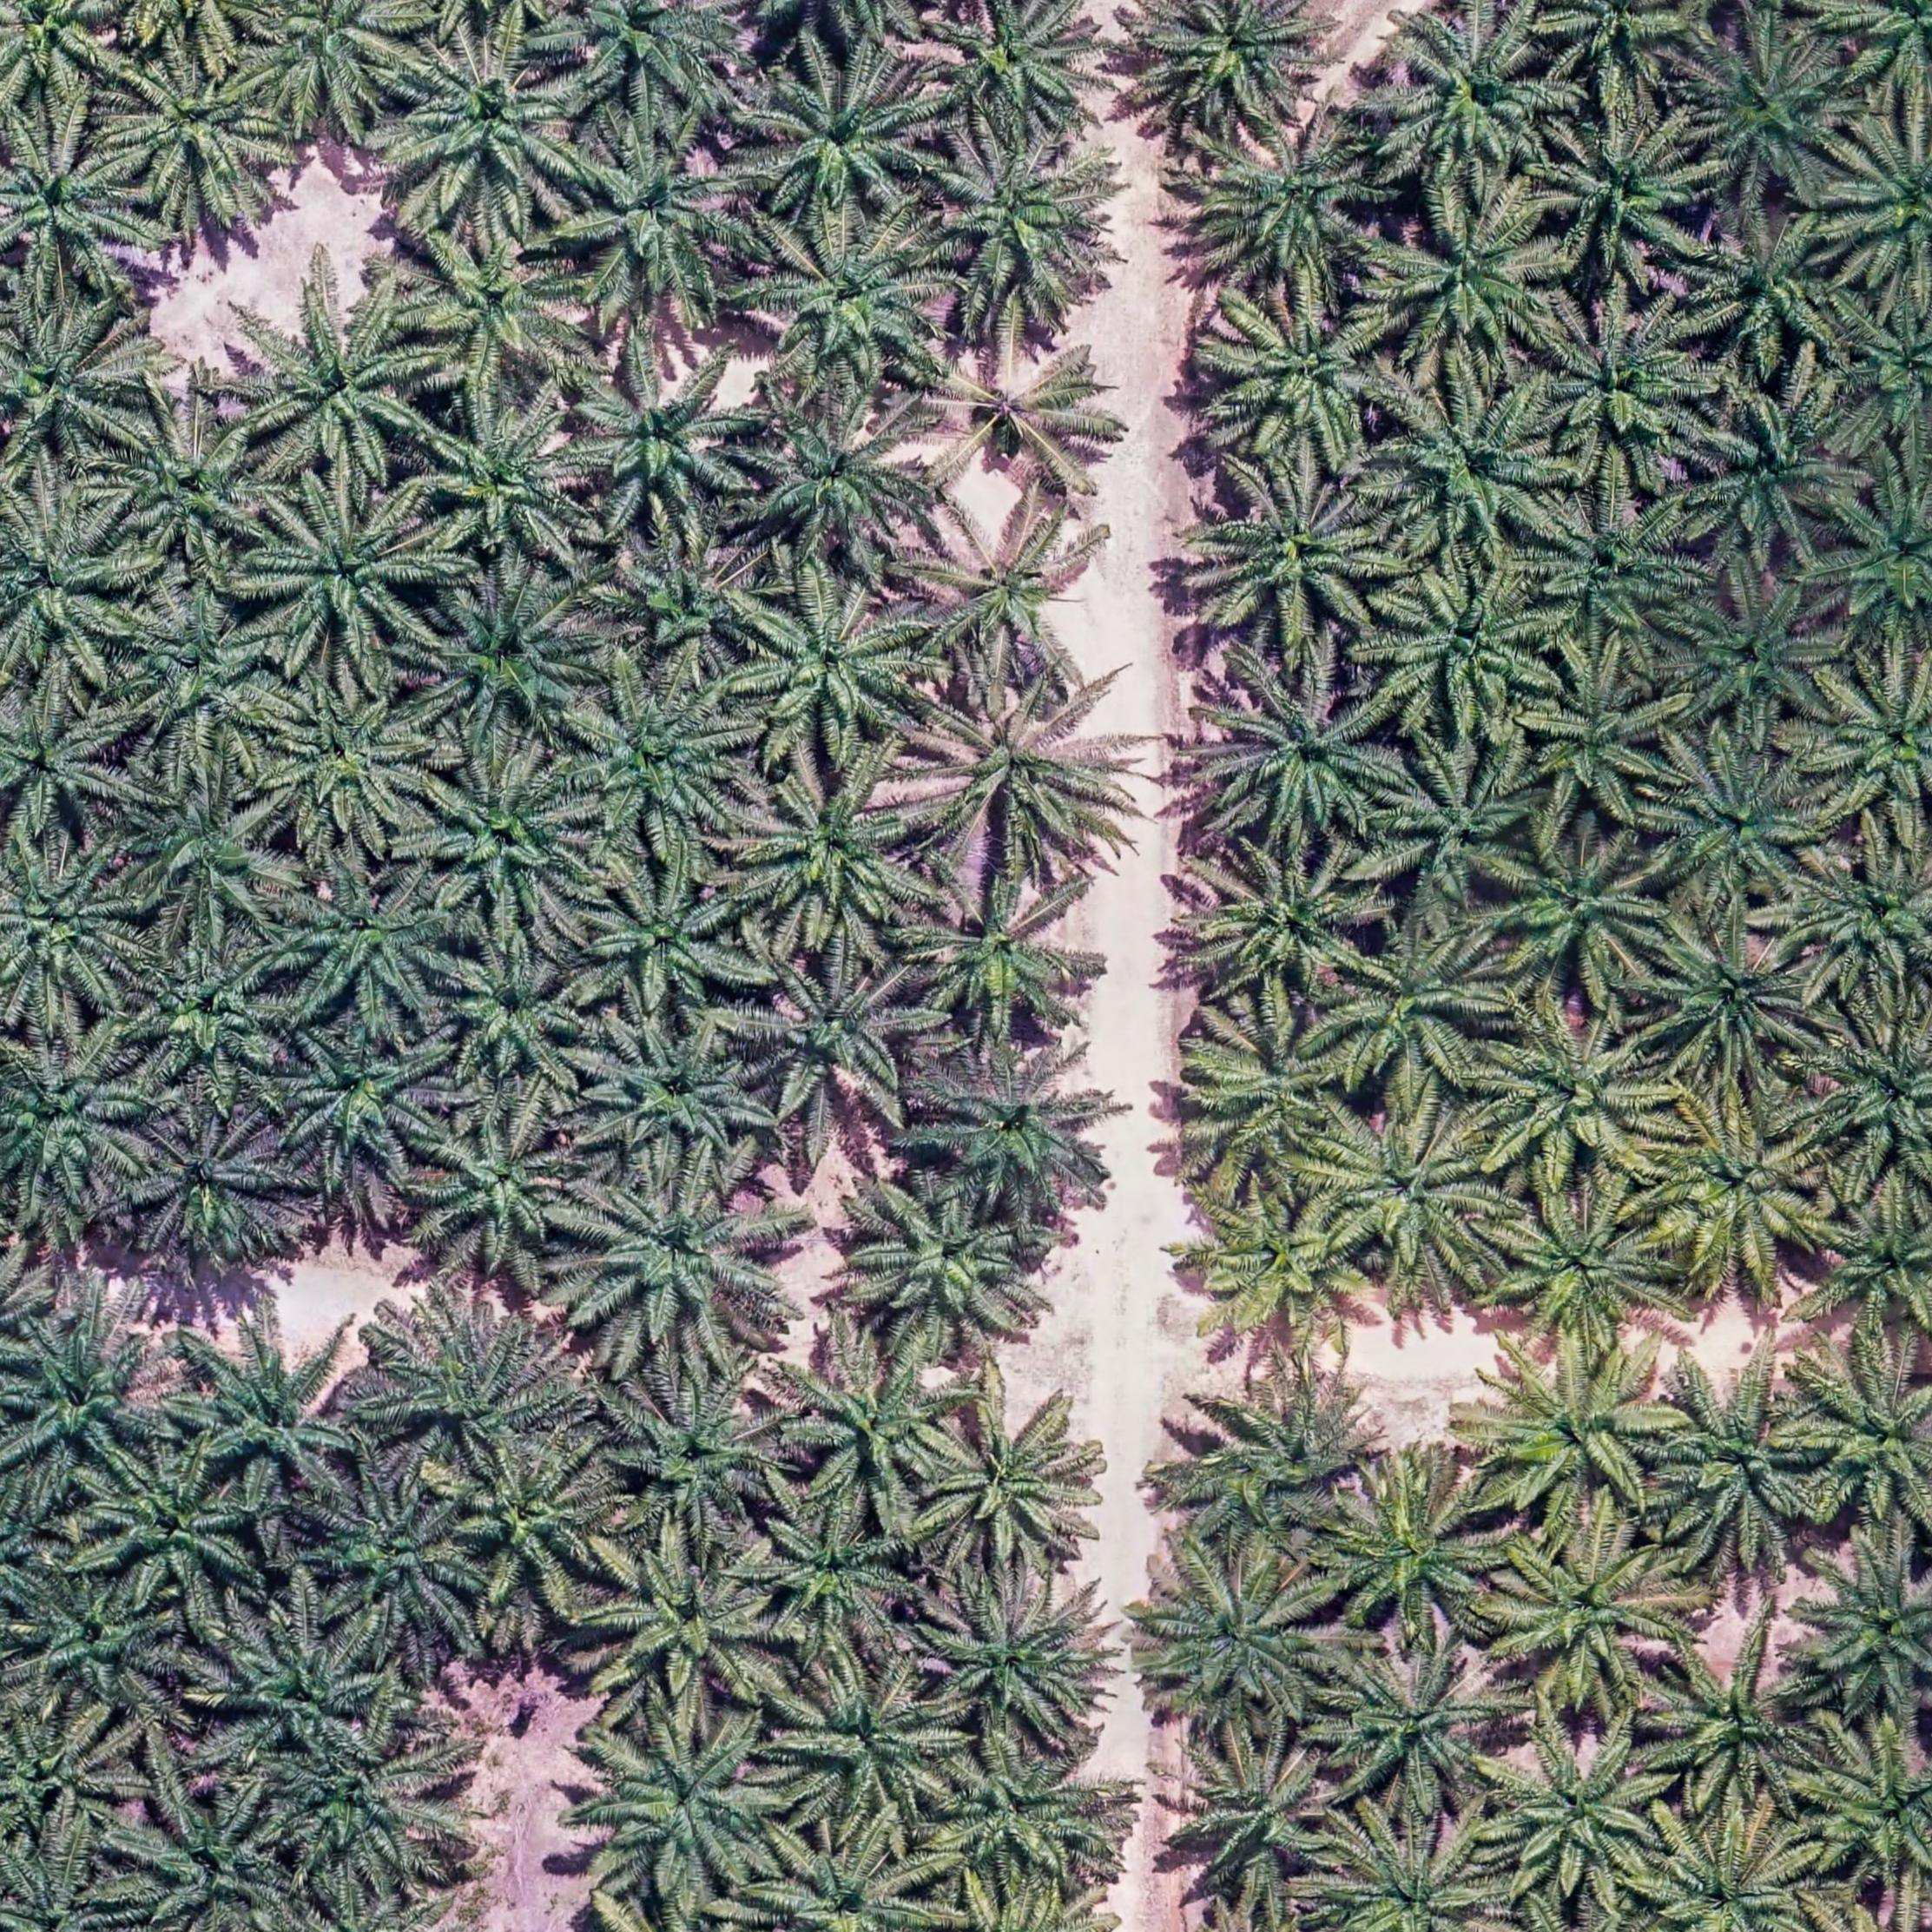palmtree: (561, 1164, 791, 1369), (901, 672, 1123, 878), (582, 1709, 796, 1909), (1465, 1332, 1684, 1527), (234, 287, 441, 487), (1189, 460, 1399, 656), (556, 117, 761, 317), (1631, 1090, 1838, 1288), (387, 30, 594, 225), (738, 752, 939, 948), (842, 1175, 1051, 1364), (579, 1534, 791, 1720), (1139, 1545, 1346, 1734), (1178, 1376, 1387, 1562), (182, 1315, 382, 1507), (1201, 660, 1407, 847), (747, 214, 954, 400), (1488, 1523, 1690, 1713), (924, 127, 1125, 317), (904, 495, 1108, 683), (1645, 1364, 1833, 1568), (1371, 5, 1576, 191), (920, 1564, 1127, 1746), (743, 44, 947, 228), (566, 345, 763, 534), (1376, 373, 1576, 559), (1313, 1099, 1507, 1288), (1315, 1467, 1513, 1652), (1207, 281, 1407, 465), (1376, 193, 1576, 377), (1189, 117, 1392, 297), (741, 950, 938, 1136), (1479, 1001, 1677, 1185), (370, 1307, 582, 1479), (1182, 1184, 1382, 1364), (1486, 1721, 1679, 1905), (931, 313, 1118, 501), (920, 1037, 1116, 1215), (1189, 839, 1387, 1016), (770, 1651, 968, 1828), (1684, 377, 1872, 563), (253, 481, 444, 663), (780, 1332, 973, 1513), (1318, 1637, 1513, 1815), (1644, 1628, 1829, 1813), (104, 46, 294, 228), (260, 1714, 456, 1890), (915, 1391, 1099, 1576), (607, 1371, 800, 1548), (740, 582, 934, 757), (577, 1012, 773, 1185), (1182, 1003, 1364, 1189), (568, 671, 757, 849), (2, 1311, 184, 1495), (421, 752, 607, 932), (904, 867, 1092, 1046), (419, 570, 609, 747), (405, 223, 596, 398), (913, 0, 1134, 150), (1683, 25, 1868, 203), (308, 1476, 494, 1654), (1169, 1730, 1355, 1909), (1532, 292, 1718, 471), (1376, 561, 1566, 736), (931, 1732, 1131, 1897), (258, 669, 442, 847), (1532, 106, 1716, 285), (1638, 909, 1824, 1086), (1493, 1184, 1679, 1361), (1322, 916, 1507, 1093), (741, 398, 936, 566), (1490, 823, 1677, 996), (88, 1442, 276, 1612), (1645, 743, 1833, 911), (1373, 743, 1550, 920), (575, 858, 759, 1028), (418, 1104, 600, 1274), (271, 1017, 453, 1185), (418, 402, 600, 570), (442, 1440, 626, 1606), (274, 863, 458, 1028), (432, 936, 610, 1104), (124, 1104, 303, 1270), (106, 410, 288, 573), (119, 587, 292, 757), (1527, 485, 1702, 653), (1663, 573, 1842, 736), (1686, 212, 1865, 375), (14, 1564, 193, 1725), (1520, 655, 1684, 828), (1139, 0, 1346, 136), (752, 1497, 929, 1656), (124, 929, 301, 1088), (122, 775, 297, 934), (115, 1783, 303, 1932), (0, 502, 145, 692), (212, 1612, 393, 1764), (0, 119, 149, 303), (545, 0, 759, 127), (0, 1033, 154, 1207), (1794, 1534, 1932, 1727), (1796, 1338, 1932, 1532), (594, 534, 771, 683), (0, 840, 147, 1017), (0, 304, 150, 472), (242, 0, 430, 129), (1806, 1000, 1932, 1191), (1801, 1716, 1932, 1898), (1792, 839, 1932, 1003), (1309, 1819, 1511, 1932), (0, 1706, 131, 1875), (1631, 1824, 1829, 1932), (1806, 1185, 1932, 1353), (750, 1826, 948, 1932), (1822, 465, 1932, 656), (1813, 660, 1932, 833), (0, 688, 129, 840), (1831, 111, 1932, 299), (1537, 0, 1702, 104), (1833, 288, 1932, 458), (0, 0, 126, 117)
